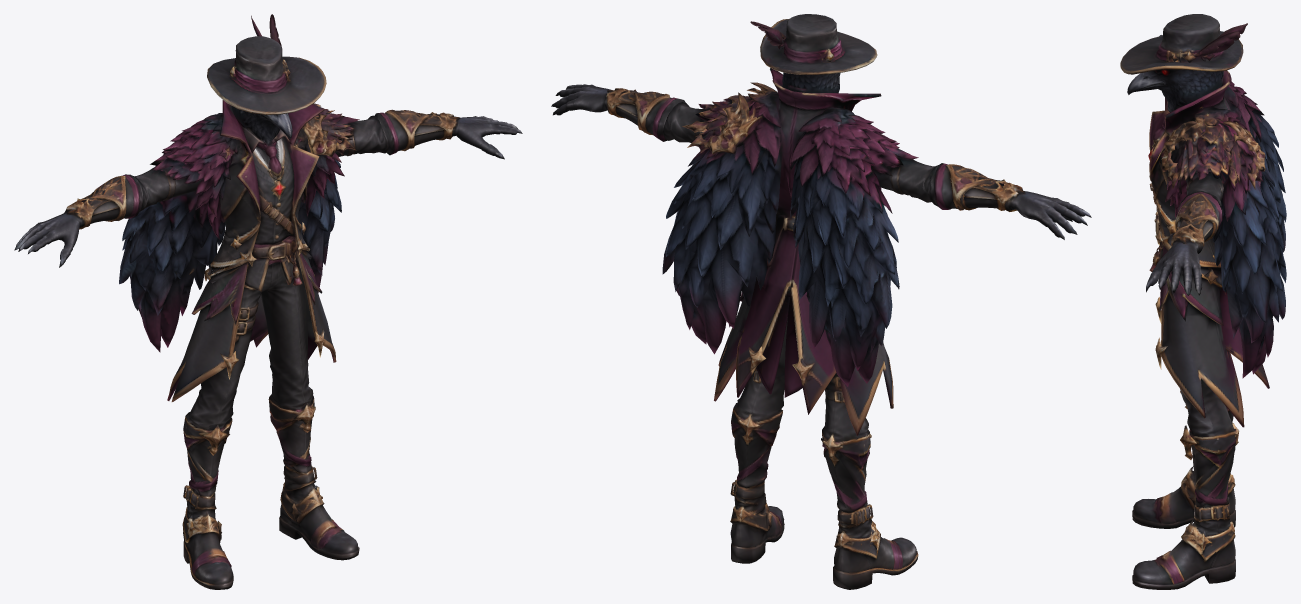
The model's file is source-tripo.glb.
3 renders of one model, left to right at view 1: azimuth 30°, elevation 25°; view 2: azimuth 150°, elevation 25°; view 3: azimuth 270°, elevation 25°, orthographic. The views are drawn at different scales.
Visible parts, largest first — view 1: tripo_node_a93fe898-ab00-4239-a454-709d72f0bd0d; view 2: tripo_node_a93fe898-ab00-4239-a454-709d72f0bd0d; view 3: tripo_node_a93fe898-ab00-4239-a454-709d72f0bd0d.
Part boxes in pixels (x1,y1,x2,y2): tripo_node_a93fe898-ab00-4239-a454-709d72f0bd0d: (14,14,522,589); tripo_node_a93fe898-ab00-4239-a454-709d72f0bd0d: (551,14,1091,589); tripo_node_a93fe898-ab00-4239-a454-709d72f0bd0d: (1120,14,1286,589).
Bounding box in the file's own units: 0.9995 × 0.9829 × 0.2759.
1 material, 1 textured.
